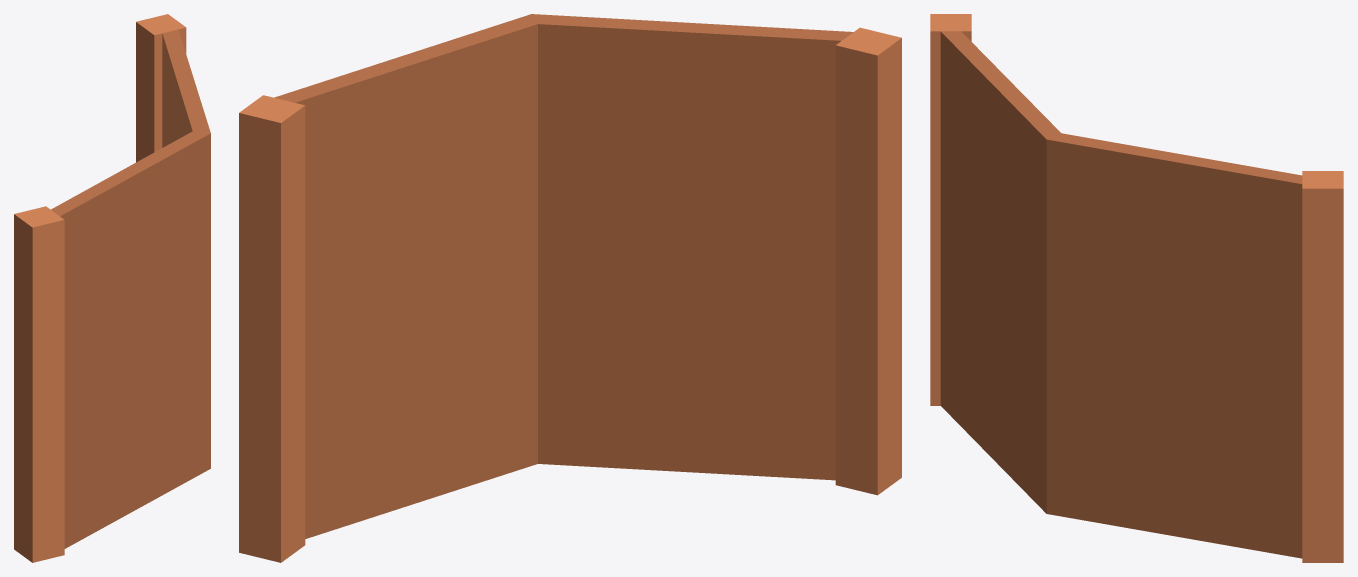
Rendered from wallWoodCornerEdge.obj.
3 renders of one model, left to right at view 1: azimuth 30°, elevation 25°; view 2: azimuth 150°, elevation 25°; view 3: azimuth 270°, elevation 25°, orthographic. The views are drawn at different scales.
Parts seen in each view (by area): view 1: wallWoodCornerEdge; view 2: wallWoodCornerEdge; view 3: wallWoodCornerEdge.
Boxes of the visible parts, x1,y1,x2,y2 form: wallWoodCornerEdge: (14, 14, 210, 562); wallWoodCornerEdge: (239, 14, 901, 562); wallWoodCornerEdge: (930, 14, 1343, 562).
Size of the model in its own units: 1 by 1 by 1.
